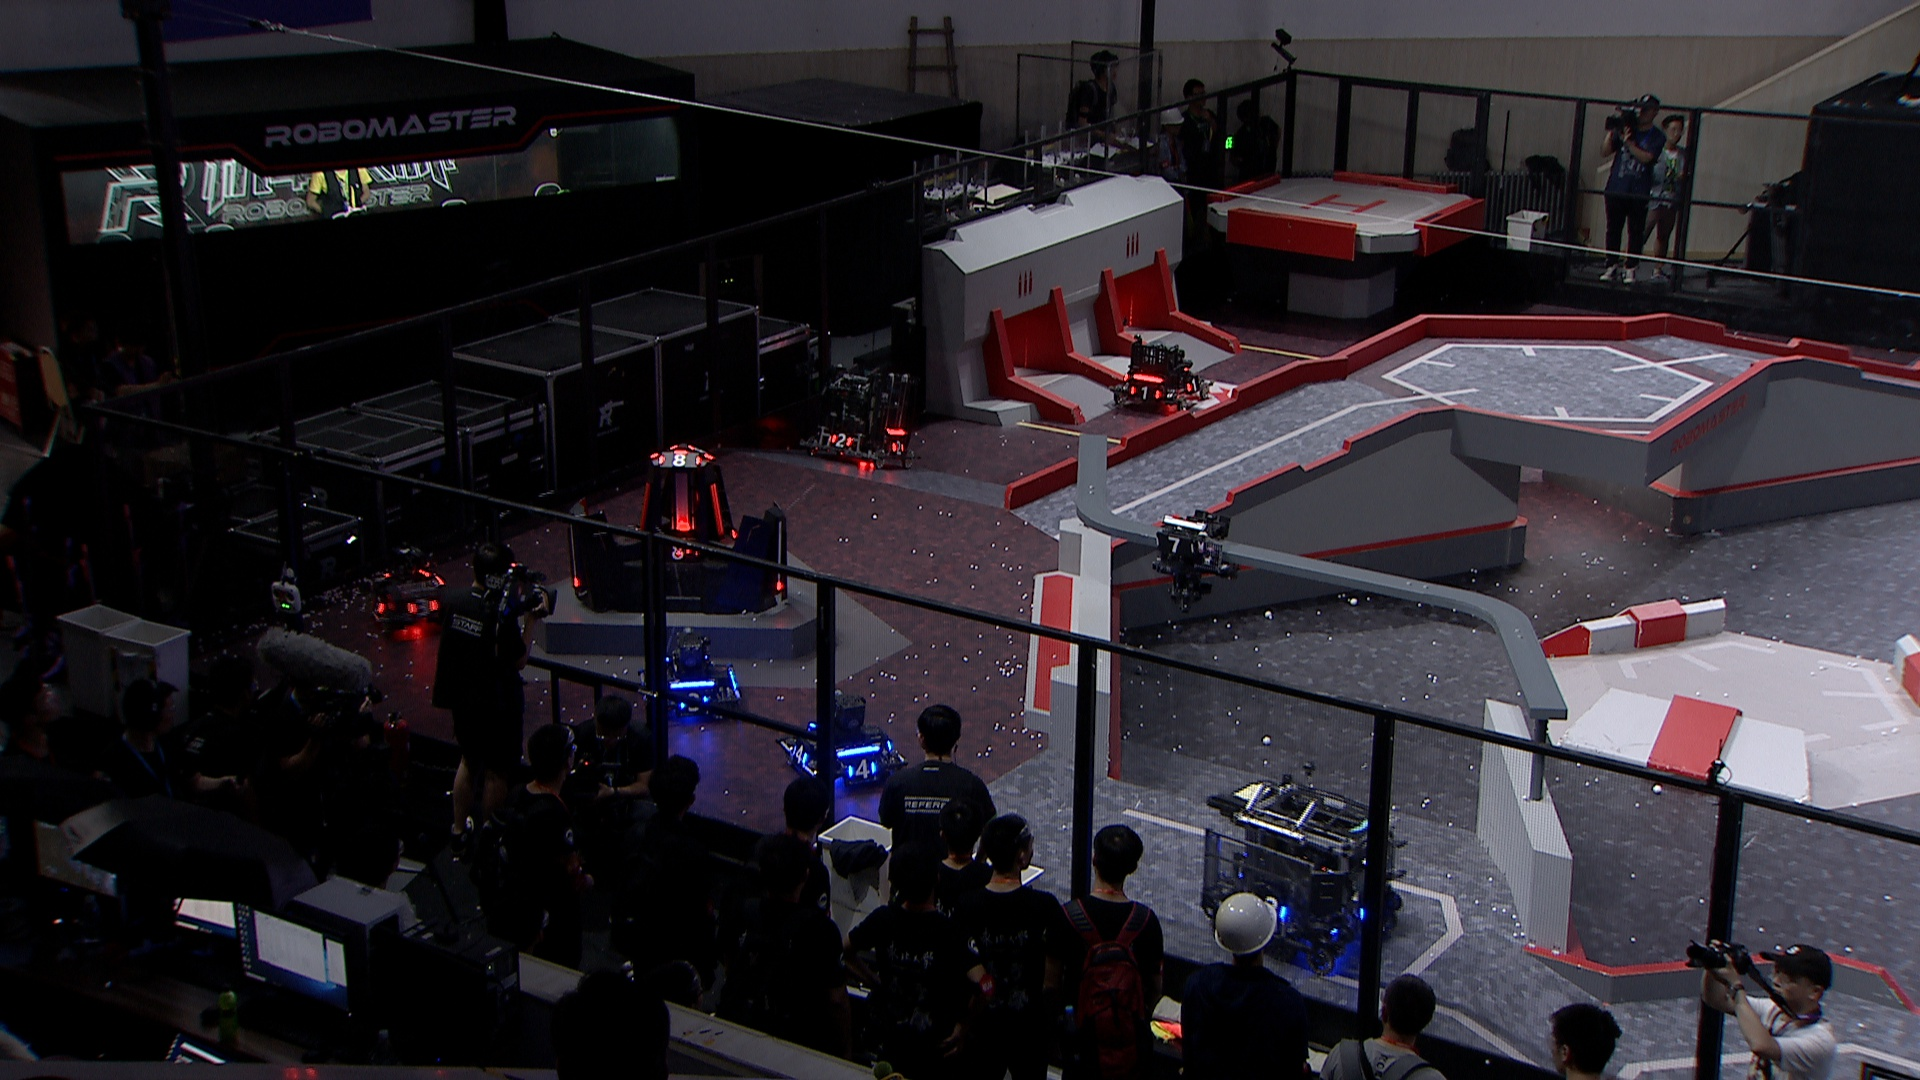armor: (709, 480, 728, 541), (1153, 534, 1196, 559), (636, 479, 654, 535), (676, 690, 713, 716), (845, 757, 878, 782), (1262, 895, 1290, 924), (657, 454, 705, 469), (1126, 384, 1164, 404), (666, 545, 702, 564), (405, 597, 438, 618), (825, 429, 855, 448), (789, 742, 812, 766), (671, 512, 694, 534), (367, 597, 386, 617), (1183, 375, 1201, 394), (887, 439, 906, 456), (568, 571, 583, 588), (773, 576, 789, 591)
base: (564, 442, 793, 617)
car: (1197, 765, 1408, 975), (773, 692, 911, 794), (802, 360, 920, 473), (636, 626, 745, 727), (357, 541, 455, 640), (1112, 334, 1207, 414)
watcher: (1149, 504, 1236, 609)
